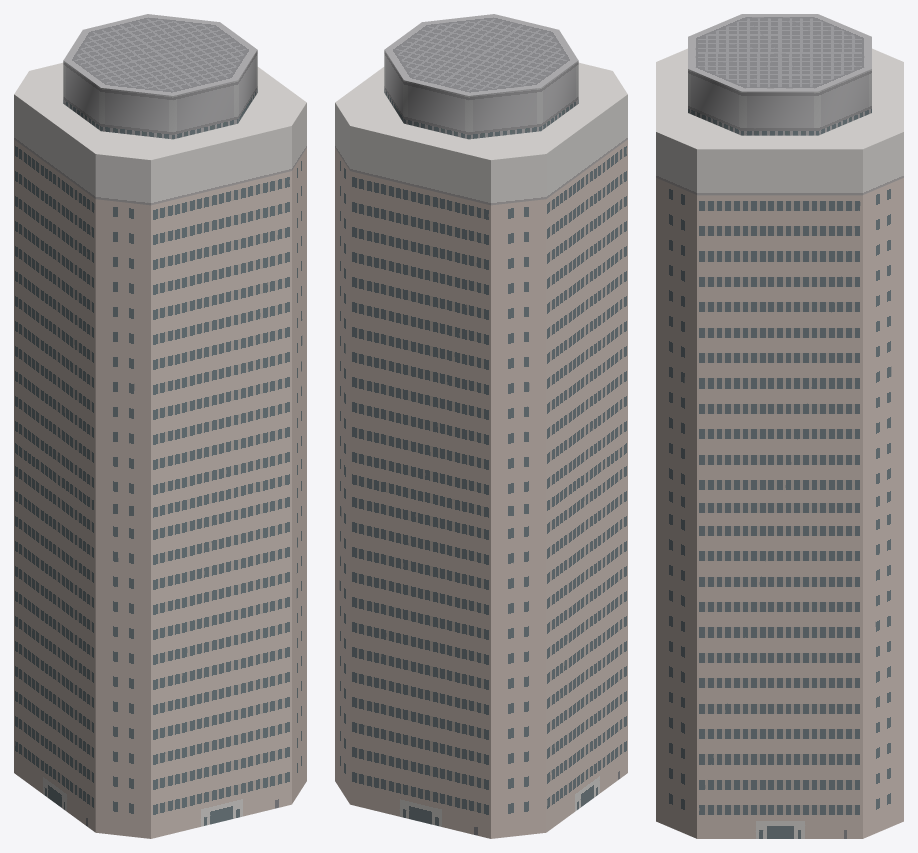
File: 017f_Eel_Building.glb
3 renders of one model, left to right at view 1: azimuth 30°, elevation 25°; view 2: azimuth 150°, elevation 25°; view 3: azimuth 270°, elevation 25°, orthographic.
Parts seen in each view (by area): view 1: part_0; view 2: part_0; view 3: part_0.
Boxes of the visible parts, x1=… form: part_0: x1=14, y1=14, x2=306, y2=838; part_0: x1=335, y1=14, x2=627, y2=838; part_0: x1=656, y1=14, x2=903, y2=838.
Size of the model in its own units: 40.21 by 131 by 40.21.
Materials: 1 (1 with a texture image).
